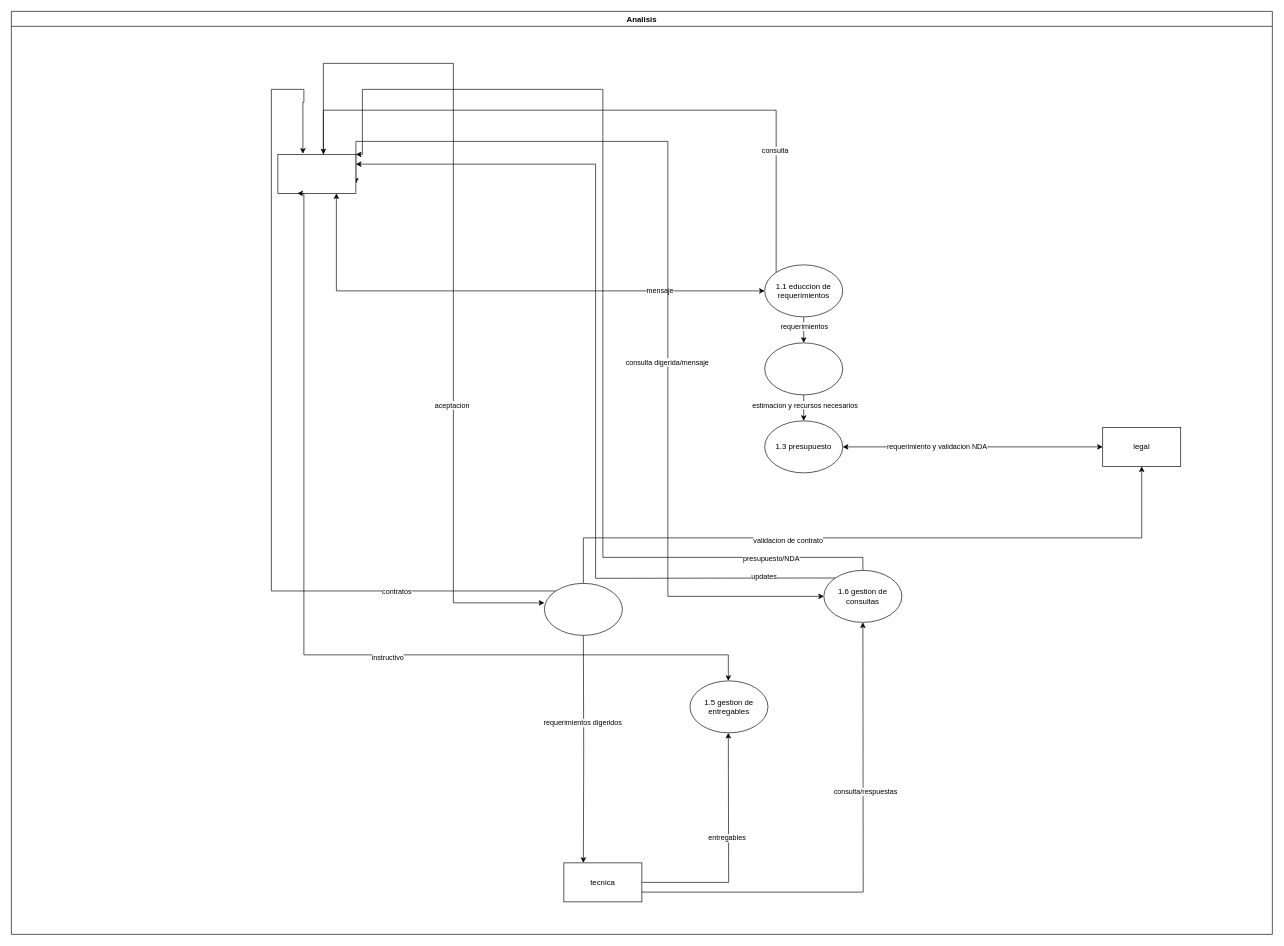
Some shapes in this 1284 by 946 pixel diagram are drawn without their labels. Here are the shapes that lost their labels. From the top down, the centre of each, then its label:
the point at 316,173: cliente
the point at 803,368: 1.2 analisis website
the point at 583,609: 1.4 creacion de proyectos
